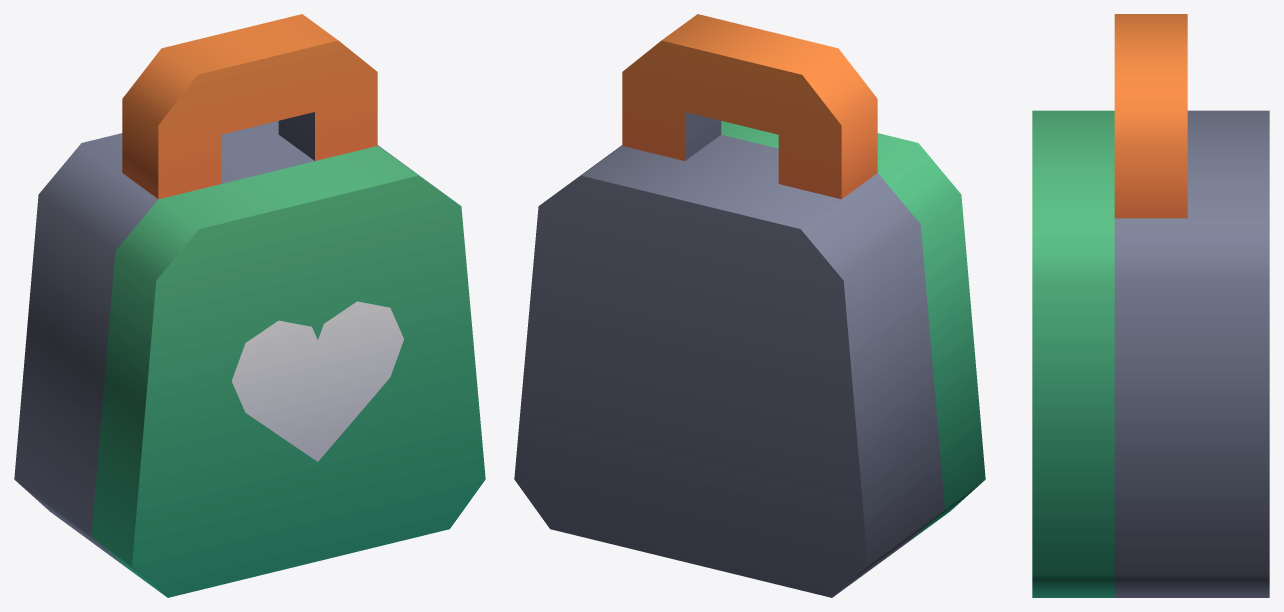
Rendered from aid-defibrillator-green.fbx.
3 views of the same model, side by side, from view 1: azimuth 30°, elevation 25°; view 2: azimuth 150°, elevation 25°; view 3: azimuth 270°, elevation 25° (orthographic).
Visible parts, largest first — view 1: aid-defibrillator-green, Group; view 2: aid-defibrillator-green; view 3: aid-defibrillator-green.
Boxes of the visible parts, bbox=[...] form: aid-defibrillator-green: bbox=[14, 14, 485, 597]; Group: bbox=[231, 301, 403, 461]; aid-defibrillator-green: bbox=[514, 14, 985, 597]; aid-defibrillator-green: bbox=[1032, 14, 1269, 597].
Bounding box in the file's own units: 22.55 × 29 × 14.
